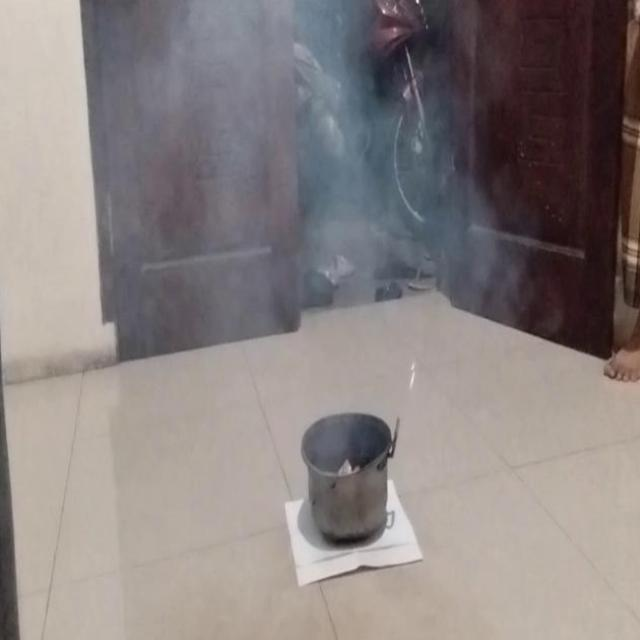fire: (88, 0, 484, 351)
